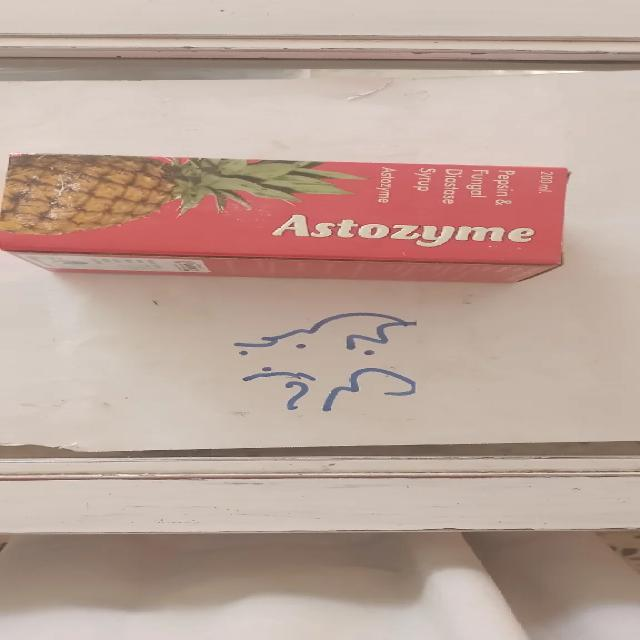drug-name: (272, 208, 538, 256)
